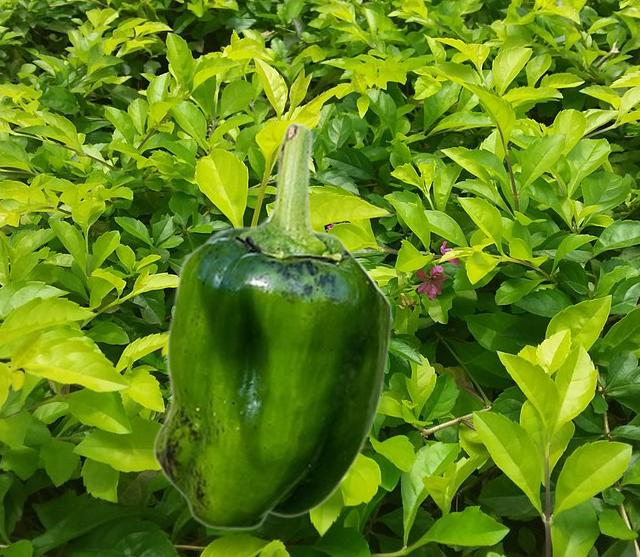bell_pepper: (152, 120, 391, 530)
